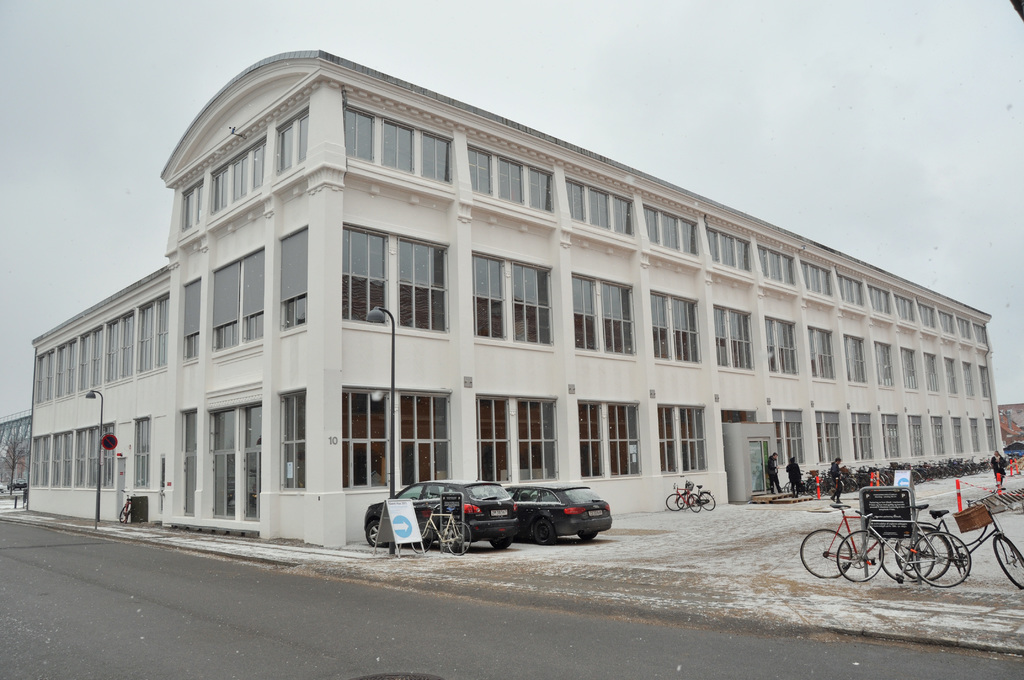mobil: (377, 478, 523, 542), (513, 479, 616, 548)
